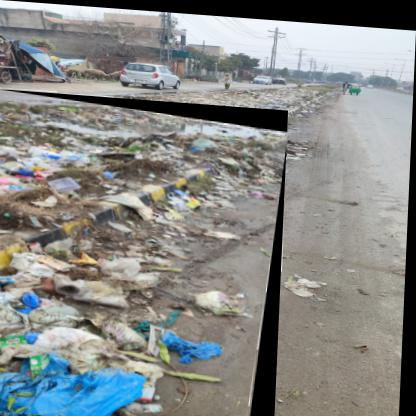Garbage: (1, 90, 291, 416)
